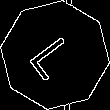L_NE: (26, 27, 84, 83)
